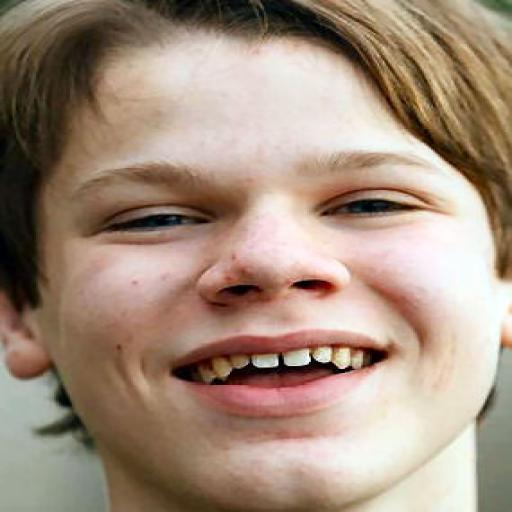Autism: (4, 13, 512, 478)
